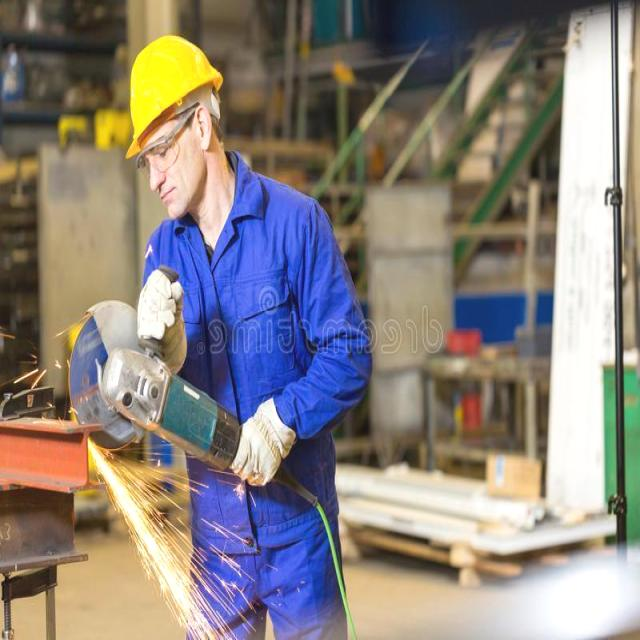face_nomask: (138, 107, 214, 230)
glasses: (132, 127, 179, 184)
hand_noglove: (219, 381, 302, 510), (126, 257, 192, 370)
head_helmet: (121, 29, 236, 172)
person: (108, 30, 310, 620)
